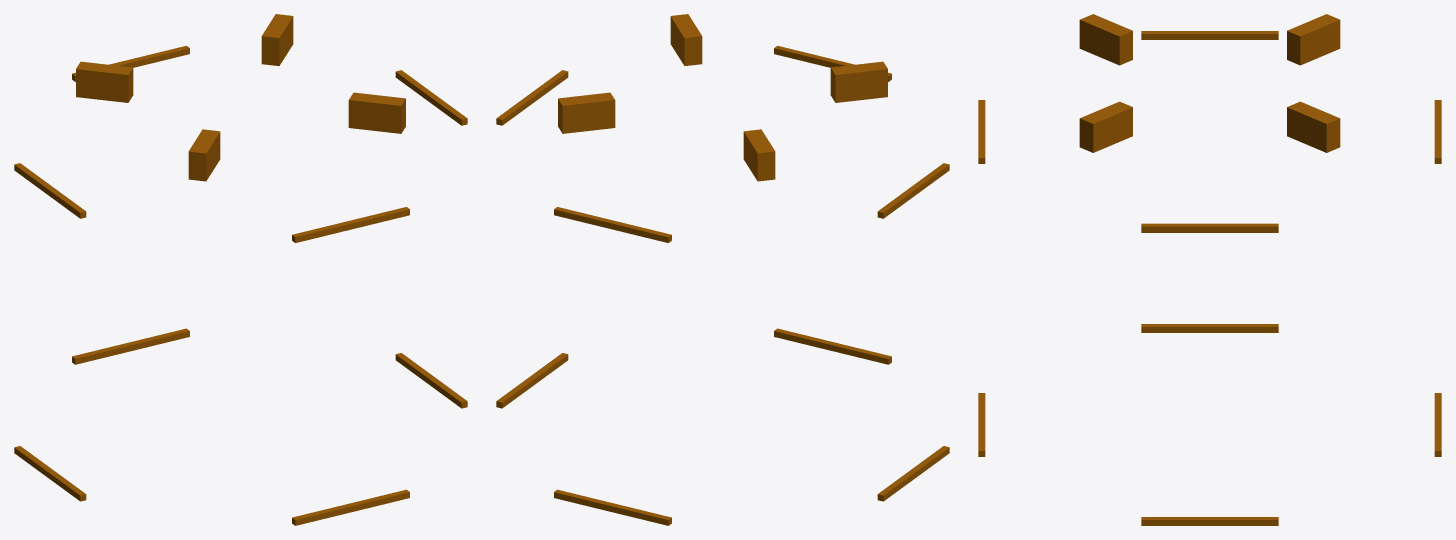
File: jichu3.fbx
3 renders of one model, left to right at view 1: azimuth 30°, elevation 25°; view 2: azimuth 150°, elevation 25°; view 3: azimuth 270°, elevation 25°, orthographic. The views are drawn at different scales.
Visible parts, largest first — view 1: 立方体.067; view 2: 立方体.067; view 3: 立方体.067.
Boxes of the visible parts, bbox=[...] form: 立方体.067: bbox=[14, 14, 467, 525]; 立方体.067: bbox=[496, 14, 949, 525]; 立方体.067: bbox=[978, 14, 1441, 525].
Size of the model in its own units: 82.35 by 70.38 by 82.35.
